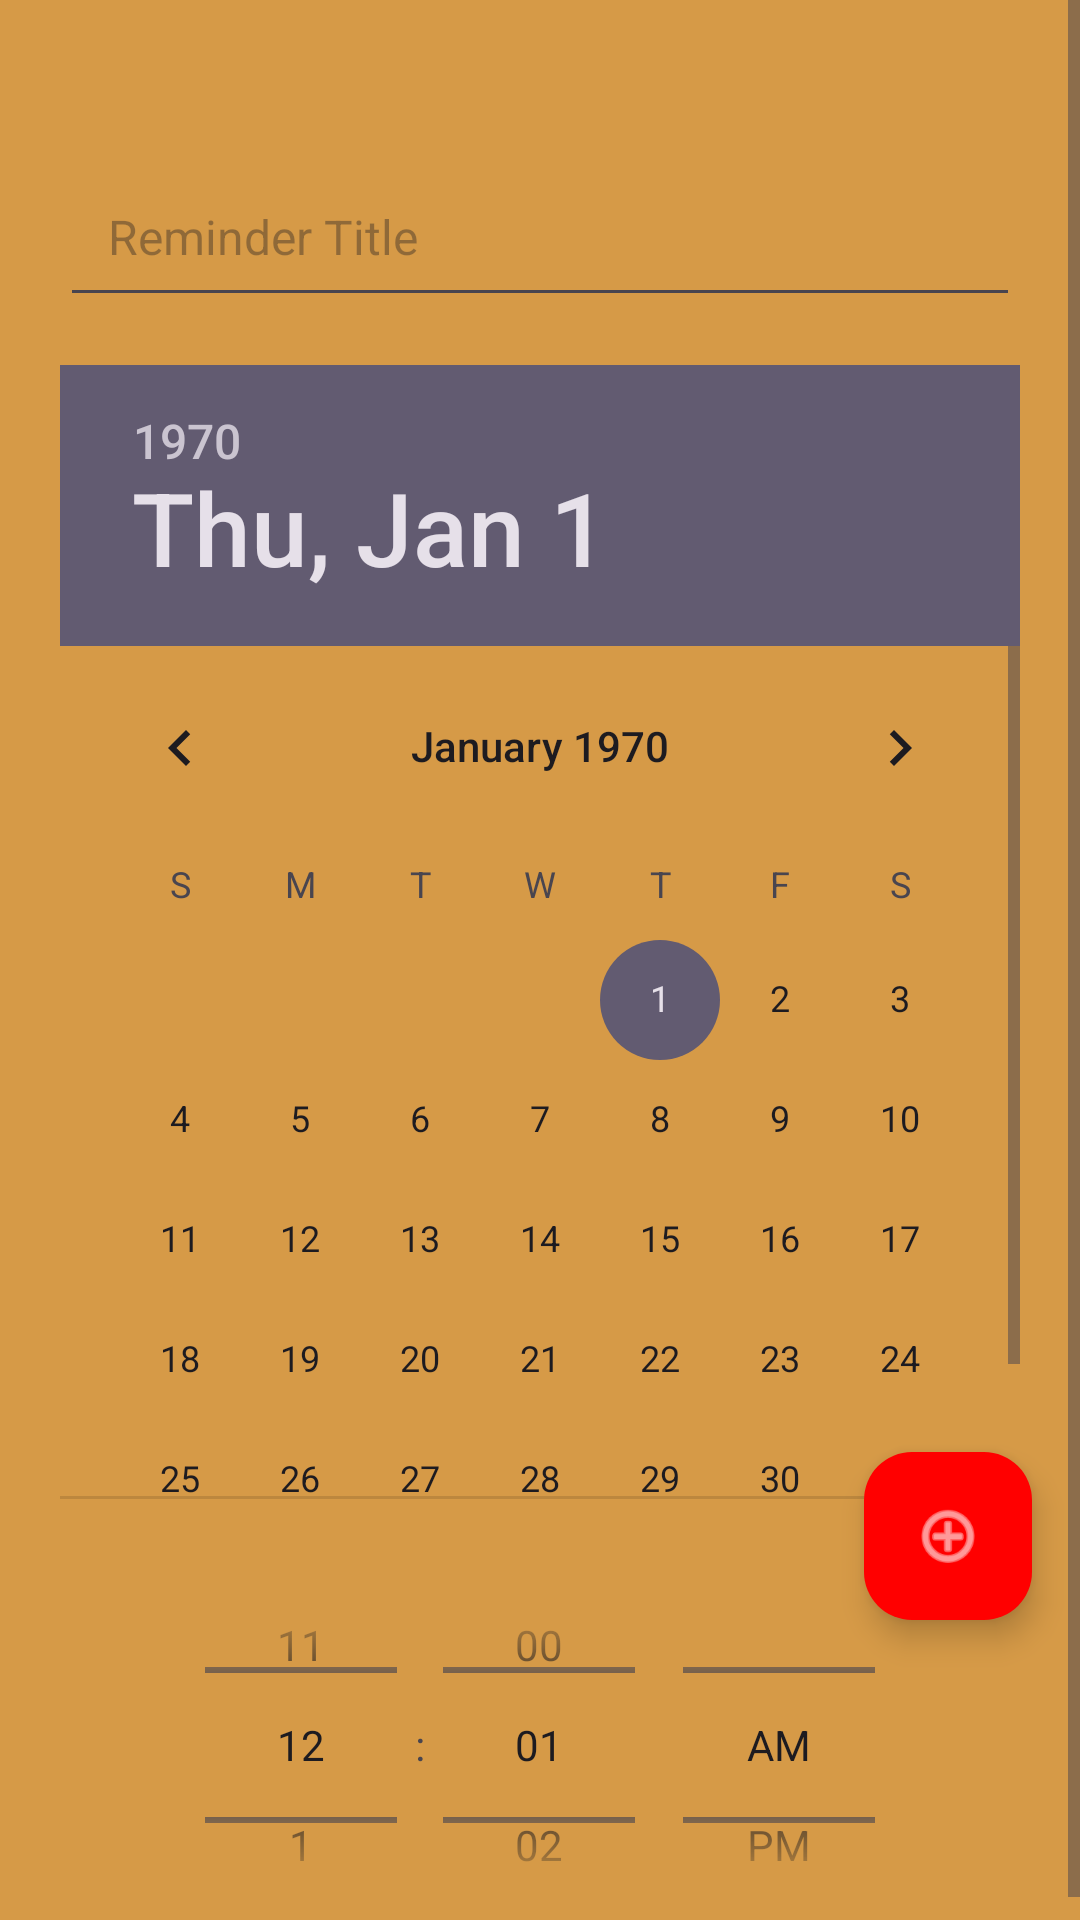

Icon click points for this 1080px×1920px phone screenshot, format [x,y]:
add: [948,1536]
